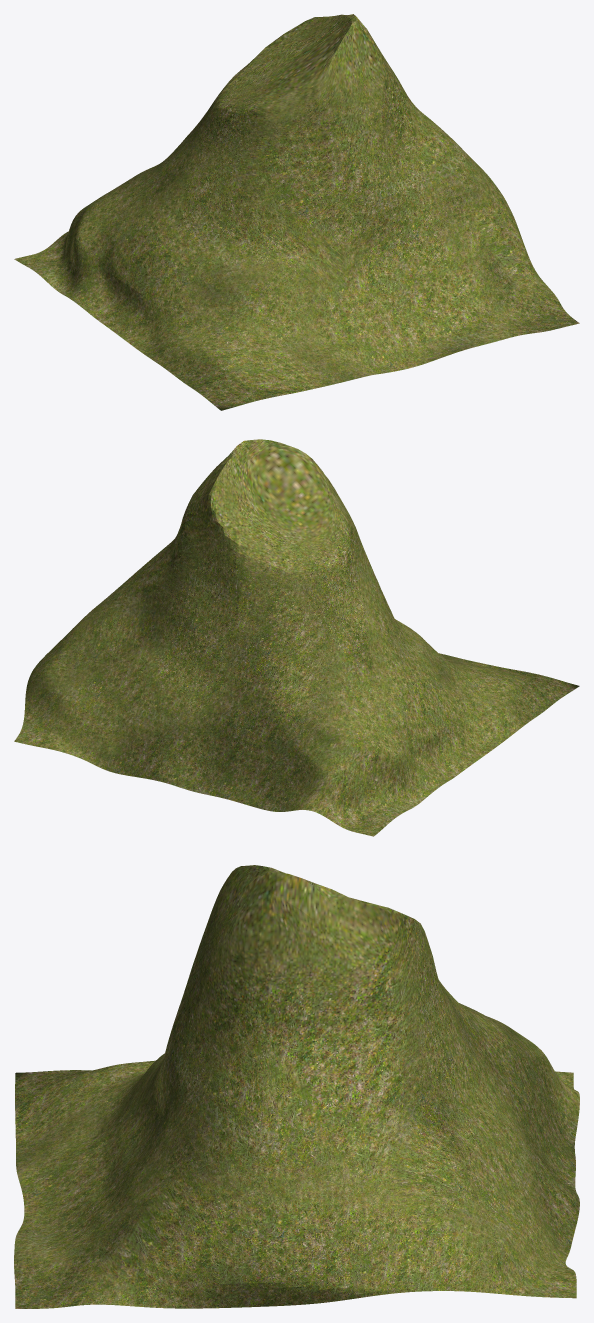
File: Volcano2.obj
3 renders of one model, top to bottom at view 1: azimuth 30°, elevation 25°; view 2: azimuth 150°, elevation 25°; view 3: azimuth 270°, elevation 25°, orthographic. The views are drawn at different scales.
Parts seen in each view (by area): view 1: Landscape; view 2: Landscape; view 3: Landscape.
Part boxes in pixels (x1,y1,x2,y2): Landscape: [14, 14, 579, 410]; Landscape: [14, 439, 579, 836]; Landscape: [14, 865, 579, 1308].
Size of the model in its own units: 254 by 163 by 230.
